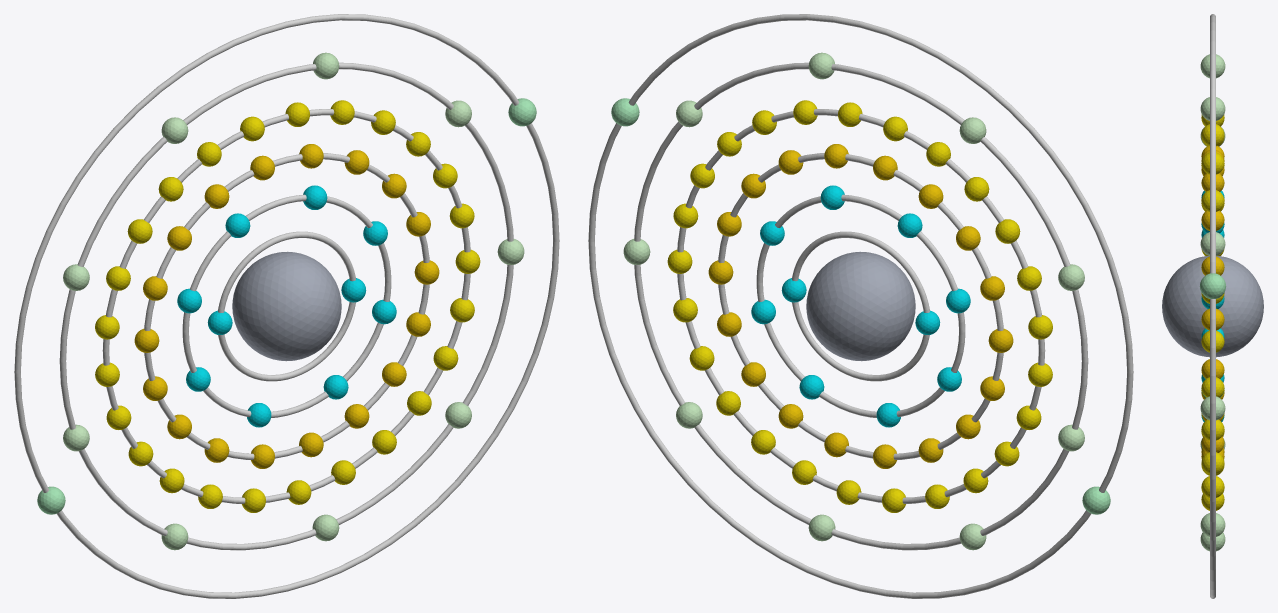
The picture shows the model from 3 angles, left to right: view 1: azimuth 30°, elevation 25°; view 2: azimuth 150°, elevation 25°; view 3: azimuth 270°, elevation 25°; orthographic projection. The views are drawn at different scales.
Parts seen in each view (by area): view 1: world; view 2: world; view 3: world.
Part boxes in pixels (x1,y1,x2,y2): world: (14,14,559,598); world: (588,14,1133,598); world: (1162,14,1263,598).
Bounding box in the file's own units: 2.53 × 2.53 × 0.44.
